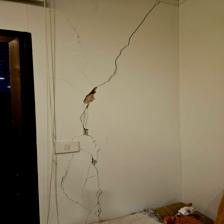High: (51, 2, 165, 224)
